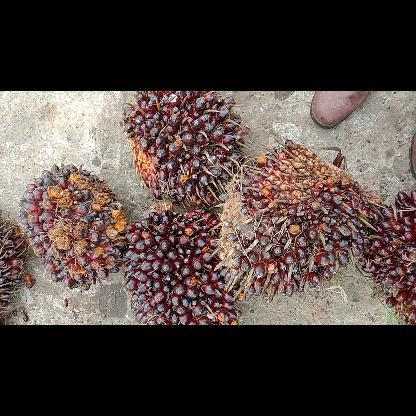Kurang masak: (216, 136, 382, 302), (15, 160, 131, 294), (122, 200, 246, 324), (118, 90, 248, 208), (358, 184, 414, 324)
